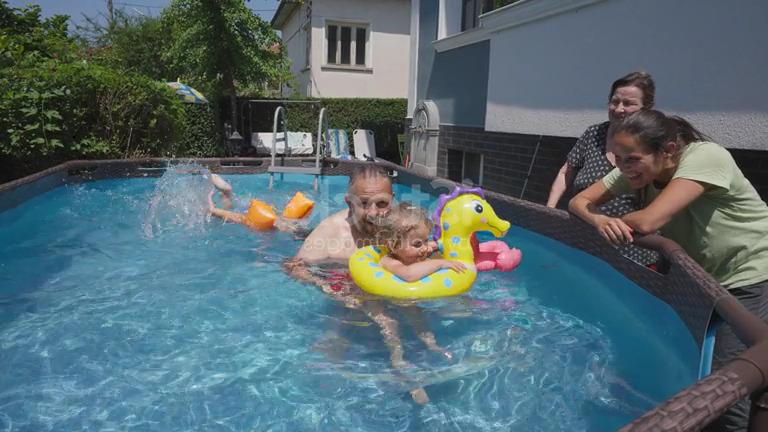Swimming: (227, 173, 514, 335)
